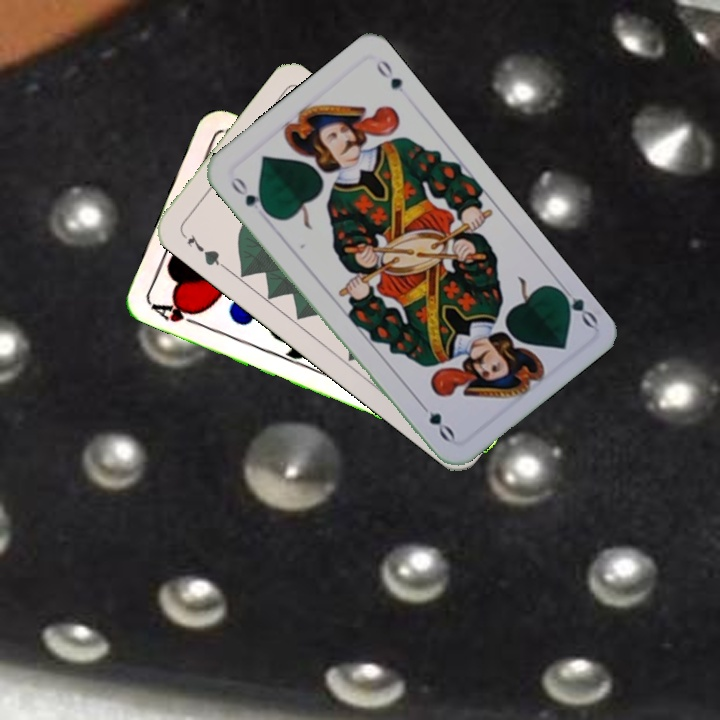G7: (178, 229, 228, 271)
GO: (552, 279, 600, 330), (226, 173, 272, 218)
HA: (146, 297, 203, 329)
